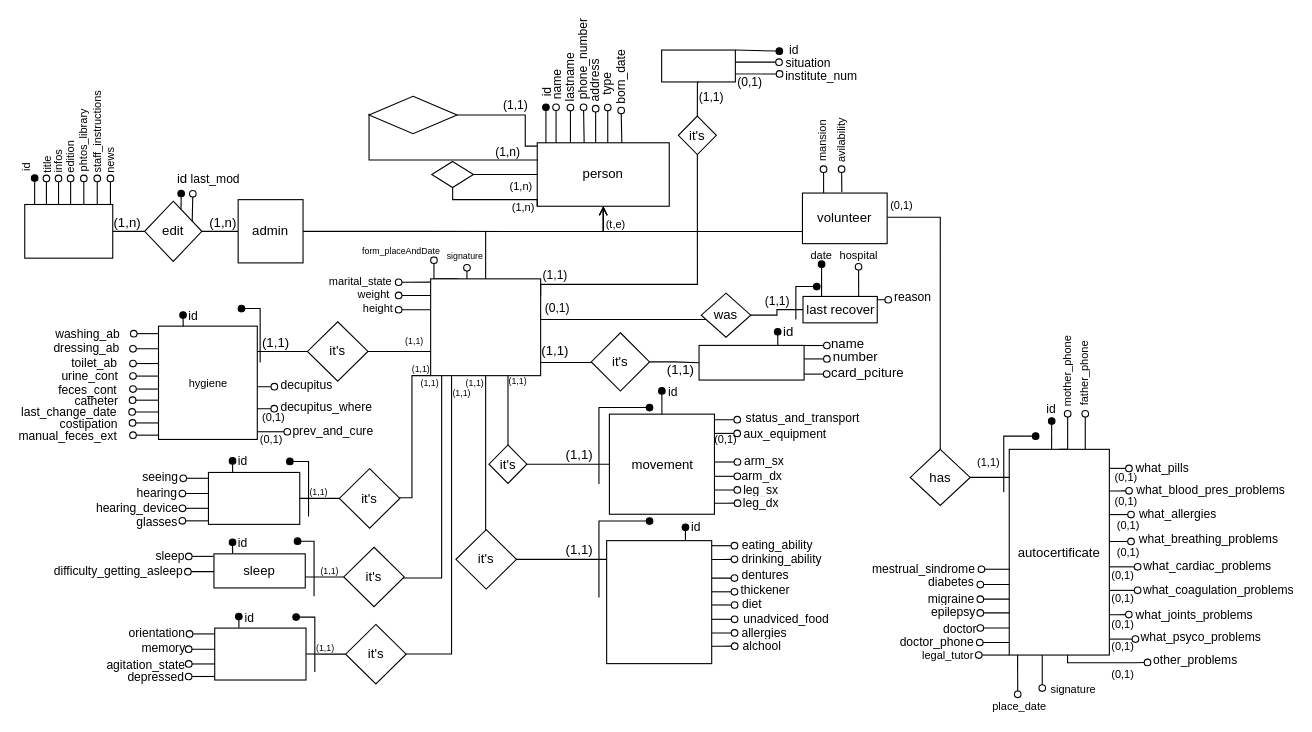
The diagram is 1312 pixels wide and 732 high, and some of its shapes have lost their labels. Each missing label, with the centre of its shape:
"alimentation" belongs at [659,602].
"camp" belongs at [68,230].
"comunication" belongs at [253,497].
"guest" belongs at [485,327].
"healt_insurance" belongs at [751,362].
"Living situation" belongs at [698,65].
"psyc_state" belongs at [260,653].
"reference" belongs at [412,114].
"see" belongs at [452,174].
